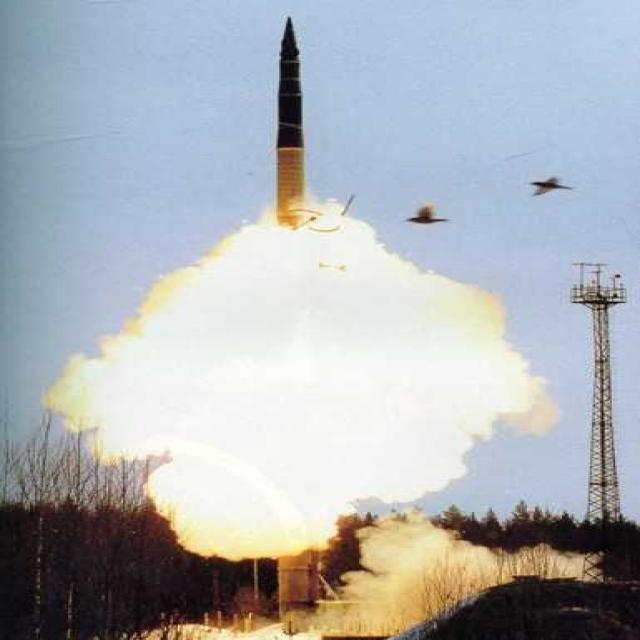missile: (270, 11, 321, 228)
